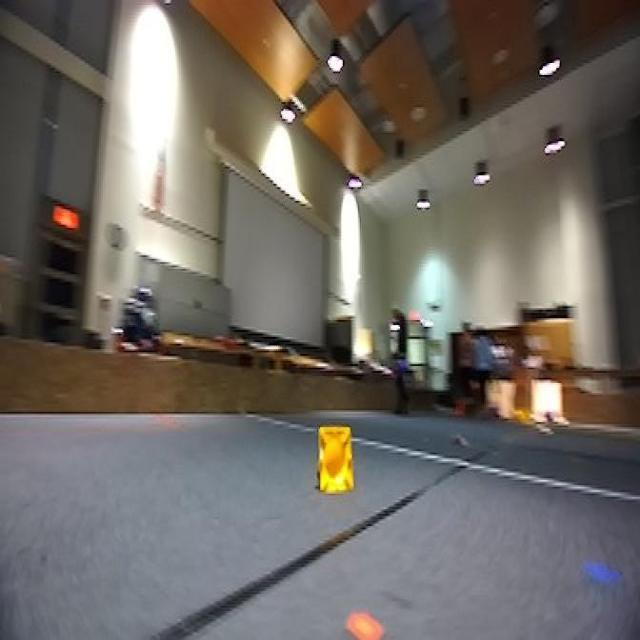frc_cone: (311, 424, 361, 500)
